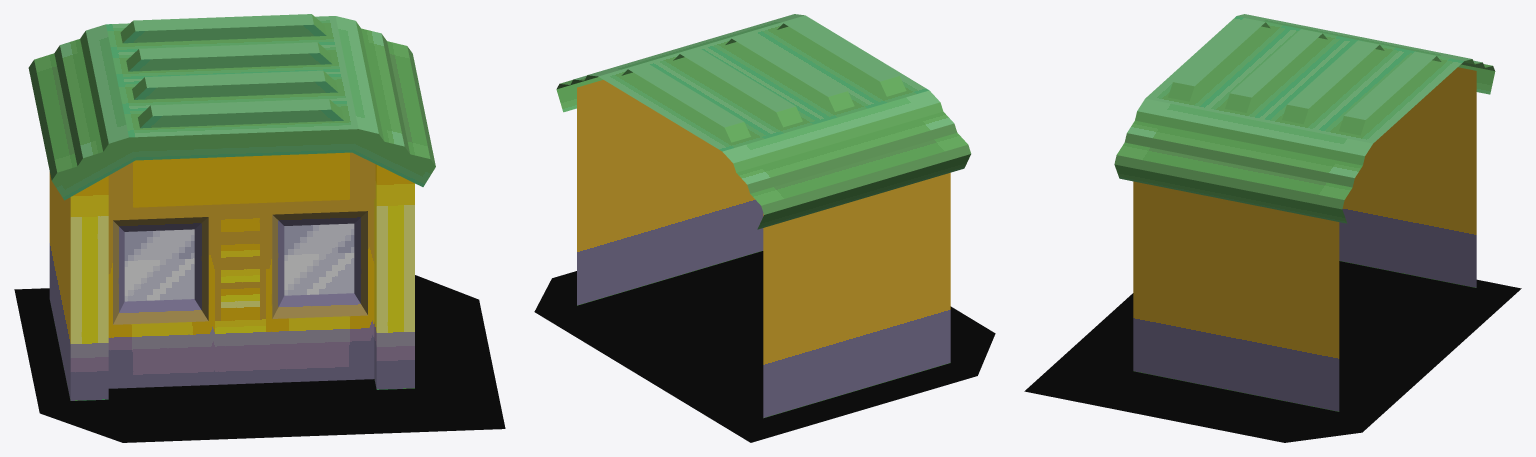
Rendered from saffron_city_house_1_lev1.glb.
3 renders of one model, left to right at view 1: azimuth 30°, elevation 25°; view 2: azimuth 150°, elevation 25°; view 3: azimuth 270°, elevation 25°, orthographic. The views are drawn at different scales.
Parts seen in each view (by area): view 1: saffron_city_house_1_lev1; view 2: saffron_city_house_1_lev1; view 3: saffron_city_house_1_lev1.
Boxes of the visible parts, x1=… form: saffron_city_house_1_lev1: x1=14, y1=14, x2=505, y2=442; saffron_city_house_1_lev1: x1=534, y1=14, x2=995, y2=442; saffron_city_house_1_lev1: x1=1024, y1=14, x2=1521, y2=442.
Size of the model in its own units: 18.36 by 11.18 by 18.94.
3 materials, 3 textured.
